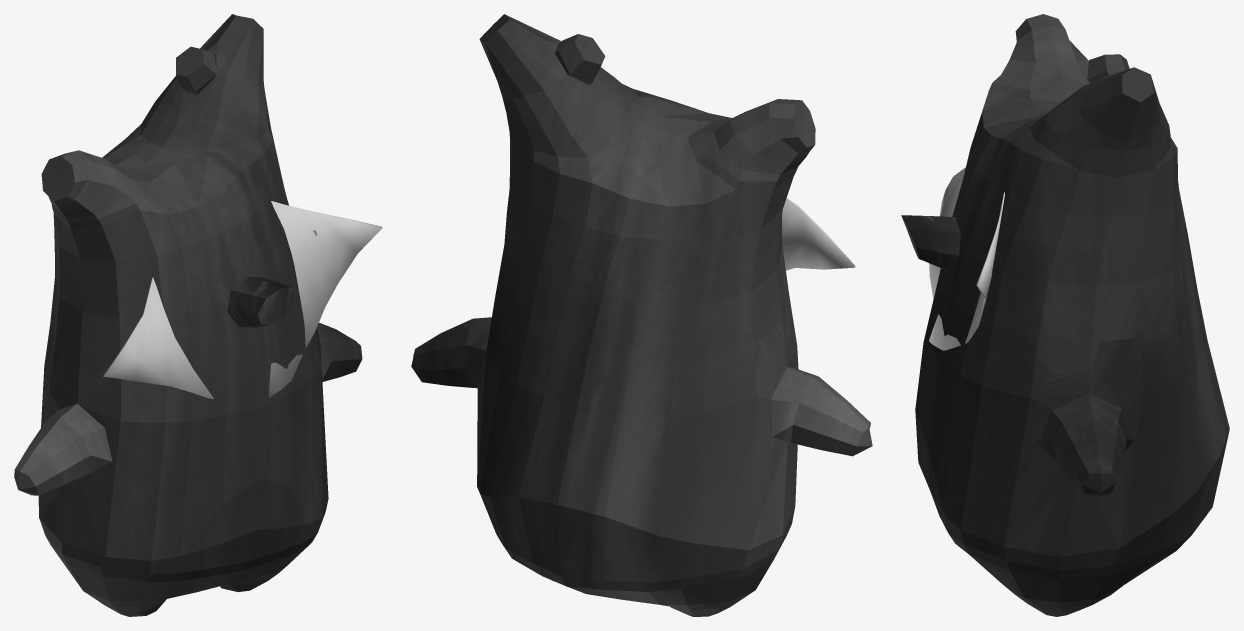
Rendered from frame_0052.obj.
3 renders of one model, left to right at view 1: azimuth 30°, elevation 25°; view 2: azimuth 150°, elevation 25°; view 3: azimuth 270°, elevation 25°, orthographic. The views are drawn at different scales.
Visible parts, largest first — view 1: korok, leaf, nose; view 2: korok, leaf; view 3: korok, leaf, nose.
Part boxes in pixels (x1,y1,x2,y2): korok: (14,14,362,616); leaf: (103,201,382,398); nose: (227,276,294,327); korok: (411,14,872,616); leaf: (782,198,855,270); korok: (915,14,1229,616); leaf: (929,167,1004,350); nose: (901,215,960,270).
Size of the model in its own units: 1.7 by 2.3 by 1.22.
